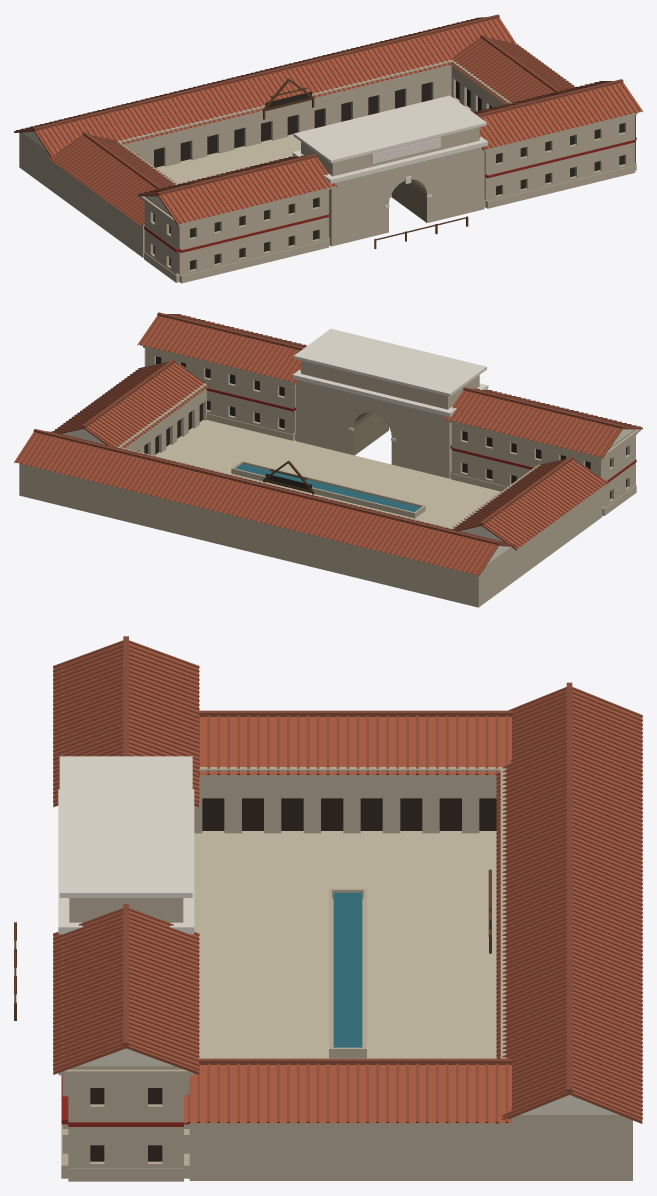
The model's file is rome_vatican_stables.glb.
3 renders of one model, top to bottom at view 1: azimuth 30°, elevation 25°; view 2: azimuth 150°, elevation 25°; view 3: azimuth 270°, elevation 25°, orthographic. The views are drawn at different scales.
Visible parts, largest first — view 1: rome_vatican_stables; view 2: rome_vatican_stables; view 3: rome_vatican_stables.
Boxes of the visible parts, left/top/right/bottom form: rome_vatican_stables: left=14, top=14, right=642, bottom=283; rome_vatican_stables: left=14, top=312, right=642, bottom=607; rome_vatican_stables: left=14, top=636, right=642, bottom=1181.
Bounding box in the file's own units: 61.27 × 10.85 × 39.73.
